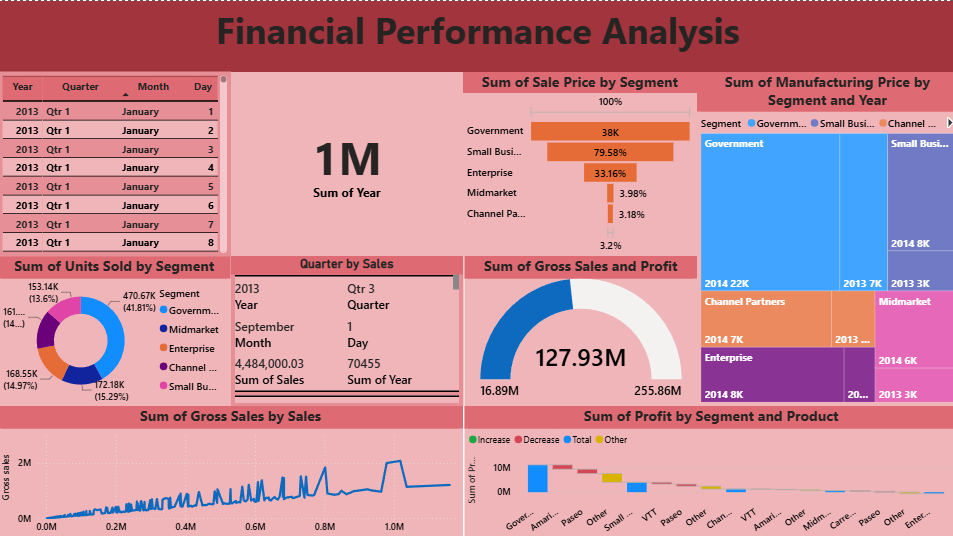

The page's visual inventory and layout, read from the dashboard file:
{"tool":"powerbi","page":{"name":"Page 1","canvas":[1280,720],"ordinal":0},"visuals":[{"type":"lineChart","fields":{"Category":["financials. Sales"],"Y":["Sum(financials.Gross Sales)"]},"box":[0,540.5,619.8,179.5],"z":1000},{"type":"treemap","fields":{"Details":["financials.Year"],"Group":["financials.Segment"],"Values":["Sum(financials.Manufacturing Price)"]},"box":[931.7,94.5,347.7,446],"z":2000},{"type":"donutChart","fields":{"Category":["financials.Segment"],"Y":["Sum(financials.Units Sold)"]},"box":[0,340.2,309.9,200.3],"z":3000},{"type":"card","fields":{"Values":["Sum(financials.Year)"]},"box":[309.9,94.5,309.9,245.7],"z":4000},{"type":"funnel","fields":{"Category":["financials.Segment"],"Y":["Sum(financials.Sale Price)"]},"box":[619.8,94.5,311.8,245.7],"z":5000},{"type":"multiRowCard","title":"Quarter by Sales","fields":{"Values":["financials.Date.Variation.Date Hierarchy.Year","financials.Date.Variation.Date Hierarchy.Quarter","financials.Date.Variation.Date Hierarchy.Month","financials.Date.Variation.Date Hierarchy.Day","Sum(financials. Sales)","Sum(financials.Year)"]},"box":[309.9,340.2,309.9,200.3],"z":6000},{"type":"gauge","title":"Sum of Gross Sales and Profit","fields":{"MinValue":["Sum(financials.Profit)"],"Y":["Sum(financials.Gross Sales)"]},"box":[621.7,340.2,309.9,200.3],"z":7000},{"type":"waterfallChart","fields":{"Breakdown":["financials.Product"],"Category":["financials.Segment"],"Y":["Sum(financials.Profit)"]},"box":[621.7,540.5,657.6,179.5],"z":8000},{"type":"textbox","box":[0,0,1279.4,94.5],"z":9000},{"type":"tableEx","fields":{"Values":["financials.Date.Variation.Date Hierarchy.Year","financials.Date.Variation.Date Hierarchy.Quarter","financials.Date.Variation.Date Hierarchy.Month","financials.Date.Variation.Date Hierarchy.Day"]},"box":[0,93.3,310,246.7],"z":9001}]}

Visuals, with their boxes in screenshot pixels (x1, y1, x2, y2), scaled from the page's 1280x720 canvas onto the 953x536 screenshot:
lineChart - financials. Sales x Sum(financials.Gross Sales): x1=0 y1=402 x2=461 y2=535
treemap - financials.Year x financials.Segment: x1=694 y1=70 x2=952 y2=402
donutChart - financials.Segment x Sum(financials.Units Sold): x1=0 y1=253 x2=231 y2=402
card - Sum(financials.Year): x1=231 y1=70 x2=461 y2=253
funnel - financials.Segment x Sum(financials.Sale Price): x1=461 y1=70 x2=694 y2=253
"Quarter by Sales" multiRowCard: x1=231 y1=253 x2=461 y2=402
"Sum of Gross Sales and Profit" gauge: x1=463 y1=253 x2=694 y2=402
waterfallChart - financials.Product x financials.Segment: x1=463 y1=402 x2=952 y2=535
textbox: x1=0 y1=0 x2=952 y2=70
tableEx - financials.Date.Variation.Date Hierarchy.Year x financials.Date.Variation.Date Hierarchy.Quarter: x1=0 y1=69 x2=231 y2=253
